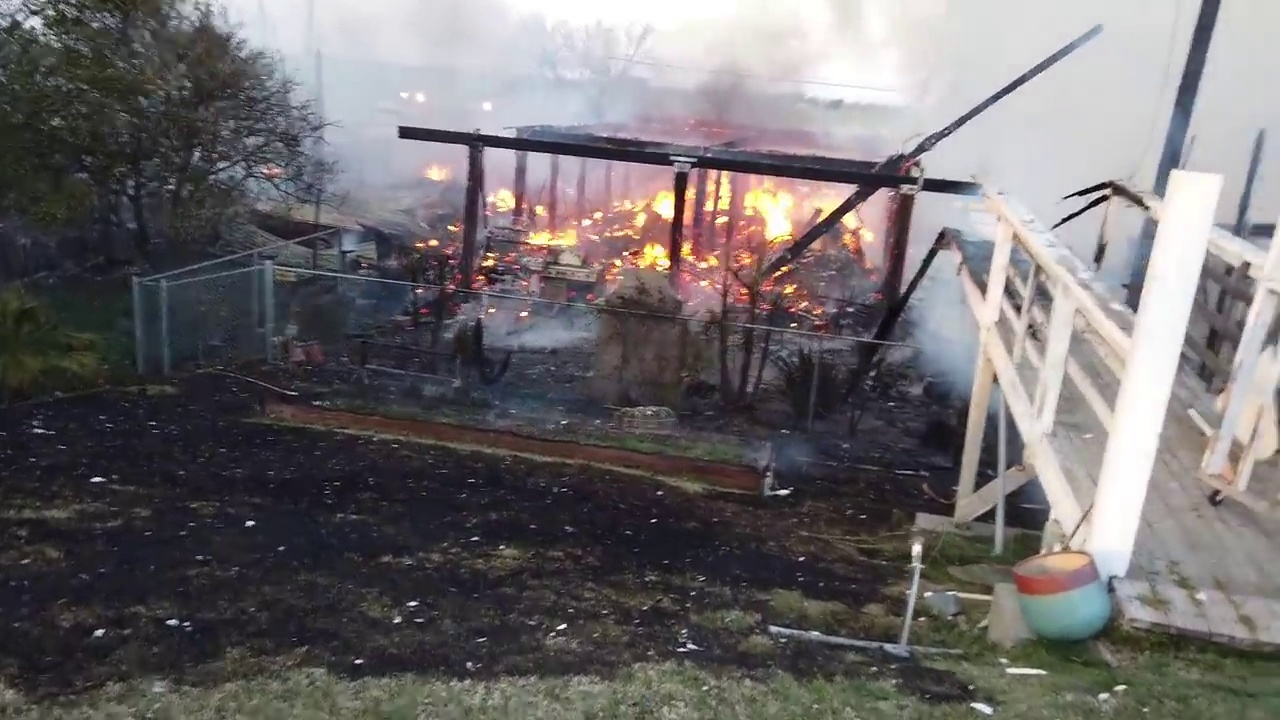fire: (617, 166, 851, 305), (520, 225, 578, 247), (629, 239, 671, 265), (485, 188, 522, 212), (576, 202, 604, 232), (528, 198, 554, 220), (425, 162, 451, 178), (445, 220, 463, 230)
smoke: (269, 1, 1280, 169), (907, 262, 992, 391), (916, 183, 993, 261)
